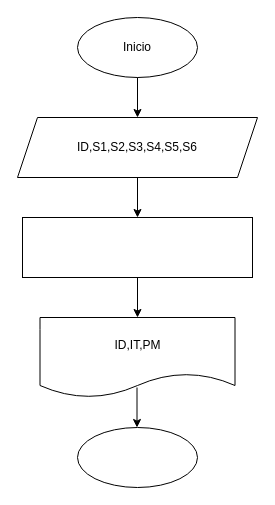
Some shapes in this 275 by 505 pixel diagram are drawn without their labels. The centre of each missing label's shape, as x and y in pixels:
"Fin" goes at [137,457].
"ID IT=S1+S2+S3+S4+S5+S6 PM=IT/6" goes at [137,247].
